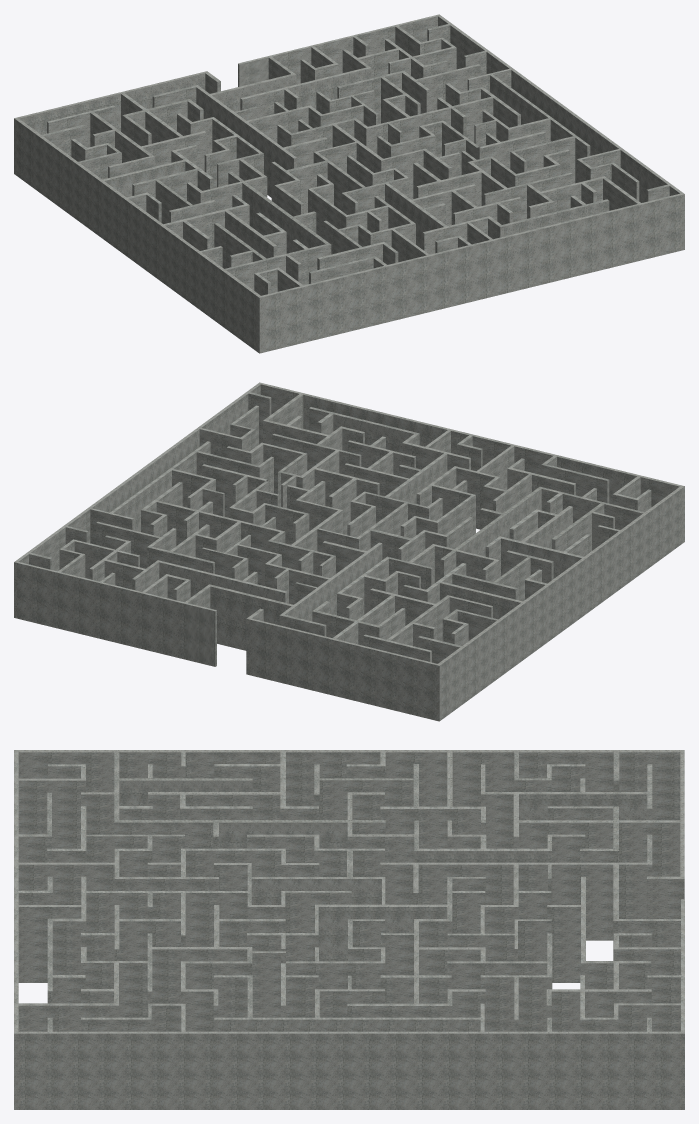
File: mazewithnopipes.fbx
The picture shows the model from 3 angles, top to bottom: view 1: azimuth 30°, elevation 25°; view 2: azimuth 150°, elevation 25°; view 3: azimuth 270°, elevation 25°; orthographic projection. The views are drawn at different scales.
Parts seen in each view (by area): view 1: Cube.037, Cube.019, Cube.015, Cube.025, Cube.024, Cube.042, Cube.014, Cube.046, Cube.010, Cube.007, Cube.004, Cube.055 (+73 smaller); view 2: Cube.055, Cube.049, Cube.052, Cube.058, Cube.269, Cube.282, Cube.267, Cube.007, Cube.010, Cube.014, Cube.004, Cube.046 (+71 smaller); view 3: Cube.046, Cube.045, Cube.262, Cube.259, Cube.134, Cube.213, Cube.002, Cube.137, Cube.160, Cube.007, Cube.057, Cube.005 (+106 smaller).
Boxes of the visible parts, <box> form: Cube.037: <box>493,204,639,295</box>; Cube.019: <box>304,266,385,342</box>; Cube.015: <box>261,285,305,352</box>; Cube.025: <box>430,244,473,311</box>; Cube.024: <box>388,255,431,321</box>; Cube.042: <box>641,193,684,259</box>; Cube.014: <box>222,270,262,353</box>; Cube.046: <box>510,68,621,155</box>; Cube.010: <box>160,224,199,307</box>; Cube.007: <box>123,197,162,280</box>; Cube.004: <box>40,136,78,218</box>; Cube.055: <box>17,91,123,134</box>; Cube.055: <box>331,638,437,720</box>; Cube.049: <box>246,617,331,694</box>; Cube.052: <box>210,585,296,650</box>; Cube.058: <box>140,592,183,658</box>; Cube.269: <box>59,572,99,638</box>; Cube.282: <box>101,582,141,648</box>; Cube.267: <box>17,562,57,627</box>; Cube.007: <box>546,558,585,640</box>; Cube.010: <box>582,531,621,614</box>; Cube.014: <box>645,485,684,568</box>; Cube.004: <box>463,619,501,702</box>; Cube.046: <box>87,428,199,512</box>; Cube.046: <box>185,1031,484,1109</box>; Cube.045: <box>52,1031,185,1109</box>; Cube.262: <box>552,1031,646,1109</box>; Cube.259: <box>484,1031,551,1109</box>; Cube.134: <box>18,778,85,848</box>; Cube.213: <box>548,862,613,940</box>; Cube.002: <box>619,750,684,820</box>; Cube.137: <box>18,862,114,904</box>; Cube.160: <box>418,862,513,904</box>; Cube.007: <box>286,750,385,806</box>; Cube.057: <box>613,820,680,876</box>; Cube.005: <box>452,750,514,806</box>.
Size of the model in its own units: 13301 by 1665 by 13300.
Materials: 1 (1 with a texture image).
